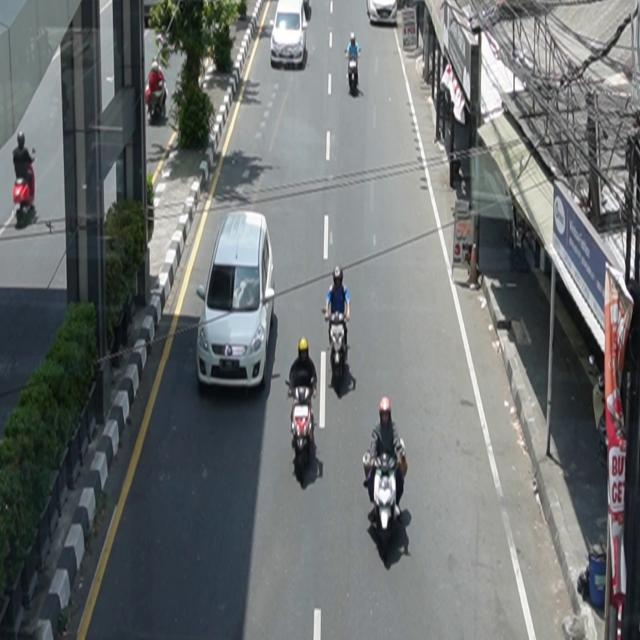car: (196, 210, 276, 392), (271, 1, 313, 70), (366, 1, 398, 26)
